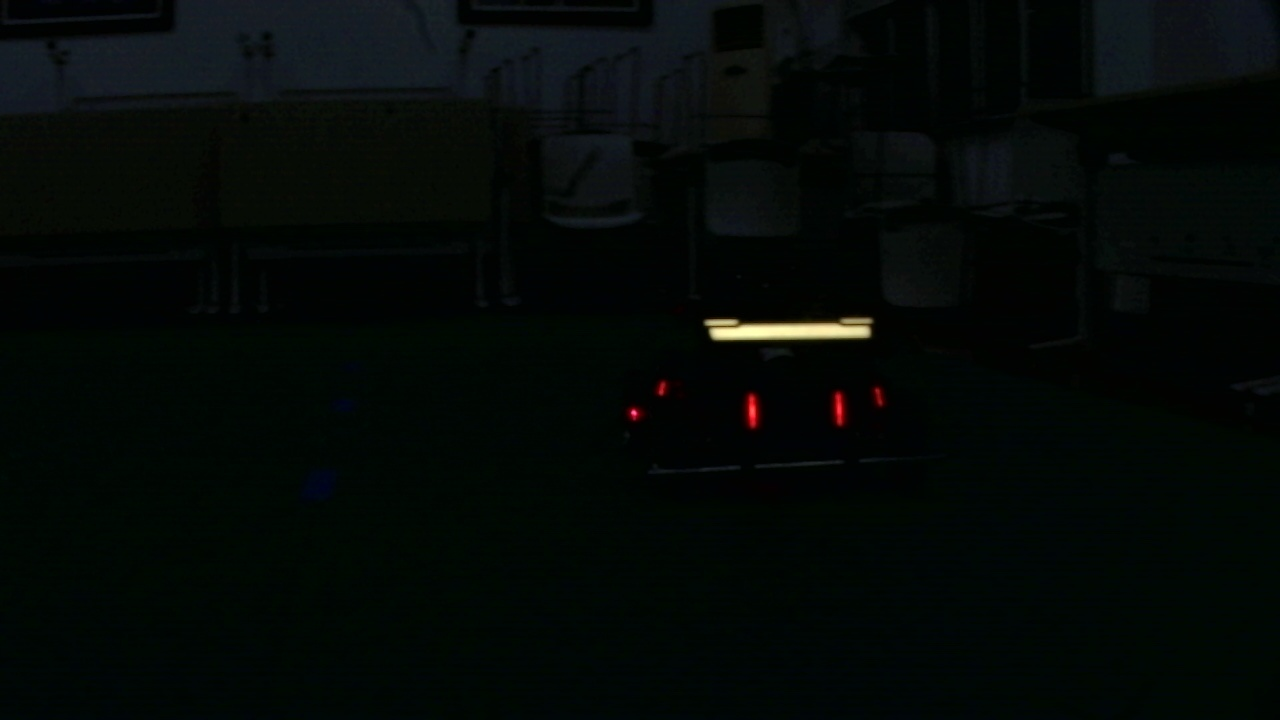lamp: (744, 393, 763, 431), (833, 392, 846, 424)
pair1: (745, 396, 844, 424)
